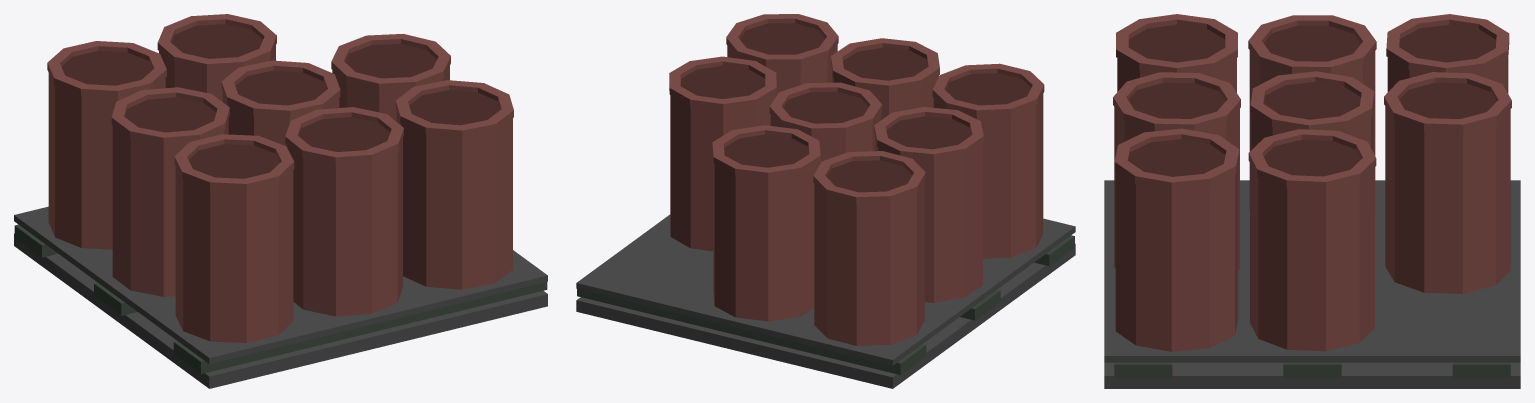
The model's file is oc_chembarrel_pallet.obj.
3 renders of one model, left to right at view 1: azimuth 30°, elevation 25°; view 2: azimuth 150°, elevation 25°; view 3: azimuth 270°, elevation 25°, orthographic. The views are drawn at different scales.
Visible parts, largest first — view 1: oc_chembarrel_pallet_5, oc_chembarrel_pallet_23, oc_chembarrel_pallet_14, oc_chembarrel_pallet_4, oc_chembarrel_pallet_11, oc_chembarrel_pallet_8, oc_chembarrel_pallet_0, oc_chembarrel_pallet_1, oc_chembarrel_pallet_6, oc_chembarrel_pallet_24, oc_chembarrel_pallet_15, oc_chembarrel_pallet_12 (+17 smaller); view 2: oc_chembarrel_pallet_11, oc_chembarrel_pallet_4, oc_chembarrel_pallet_20, oc_chembarrel_pallet_5, oc_chembarrel_pallet_8, oc_chembarrel_pallet_0, oc_chembarrel_pallet_26, oc_chembarrel_pallet_3, oc_chembarrel_pallet_12, oc_chembarrel_pallet_24, oc_chembarrel_pallet_18, oc_chembarrel_pallet_21 (+17 smaller); view 3: oc_chembarrel_pallet_4, oc_chembarrel_pallet_20, oc_chembarrel_pallet_26, oc_chembarrel_pallet_23, oc_chembarrel_pallet_0, oc_chembarrel_pallet_27, oc_chembarrel_pallet_21, oc_chembarrel_pallet_24, oc_chembarrel_pallet_9, oc_chembarrel_pallet_15, oc_chembarrel_pallet_18, oc_chembarrel_pallet_12 (+17 smaller).
Part boxes in pixels (left/top/right/bottom): oc_chembarrel_pallet_5: left=175, top=166, right=293, bottom=342; oc_chembarrel_pallet_23: left=396, top=112, right=512, bottom=289; oc_chembarrel_pallet_14: left=286, top=139, right=402, bottom=316; oc_chembarrel_pallet_4: left=14, top=206, right=547, bottom=364; oc_chembarrel_pallet_11: left=48, top=73, right=165, bottom=249; oc_chembarrel_pallet_8: left=112, top=120, right=228, bottom=296; oc_chembarrel_pallet_0: left=14, top=233, right=547, bottom=388; oc_chembarrel_pallet_1: left=173, top=282, right=547, bottom=373; oc_chembarrel_pallet_6: left=174, top=134, right=294, bottom=191; oc_chembarrel_pallet_24: left=395, top=80, right=513, bottom=137; oc_chembarrel_pallet_15: left=285, top=107, right=403, bottom=164; oc_chembarrel_pallet_12: left=47, top=41, right=166, bottom=98; oc_chembarrel_pallet_11: left=814, top=181, right=924, bottom=345; oc_chembarrel_pallet_4: left=576, top=214, right=1075, bottom=365; oc_chembarrel_pallet_20: left=713, top=162, right=819, bottom=321; oc_chembarrel_pallet_5: left=933, top=94, right=1043, bottom=258; oc_chembarrel_pallet_8: left=875, top=138, right=982, bottom=302; oc_chembarrel_pallet_0: left=576, top=243, right=1075, bottom=388; oc_chembarrel_pallet_26: left=670, top=95, right=775, bottom=251; oc_chembarrel_pallet_3: left=577, top=289, right=926, bottom=374; oc_chembarrel_pallet_12: left=813, top=151, right=925, bottom=203; oc_chembarrel_pallet_24: left=726, top=14, right=838, bottom=66; oc_chembarrel_pallet_18: left=769, top=82, right=882, bottom=134; oc_chembarrel_pallet_21: left=712, top=125, right=820, bottom=179; oc_chembarrel_pallet_4: left=1104, top=180, right=1520, bottom=362; oc_chembarrel_pallet_20: left=1385, top=107, right=1510, bottom=293; oc_chembarrel_pallet_26: left=1250, top=163, right=1374, bottom=351; oc_chembarrel_pallet_23: left=1115, top=164, right=1238, bottom=351; oc_chembarrel_pallet_0: left=1104, top=362, right=1520, bottom=388; oc_chembarrel_pallet_27: left=1248, top=129, right=1376, bottom=189; oc_chembarrel_pallet_21: left=1384, top=72, right=1511, bottom=132; oc_chembarrel_pallet_24: left=1114, top=128, right=1239, bottom=190; oc_chembarrel_pallet_9: left=1248, top=15, right=1376, bottom=73; oc_chembarrel_pallet_15: left=1113, top=72, right=1240, bottom=131; oc_chembarrel_pallet_18: left=1250, top=71, right=1374, bottom=130; oc_chembarrel_pallet_12: left=1386, top=14, right=1509, bottom=72.
Bounding box in the file's own units: 1.76 × 0.925 × 1.72.
